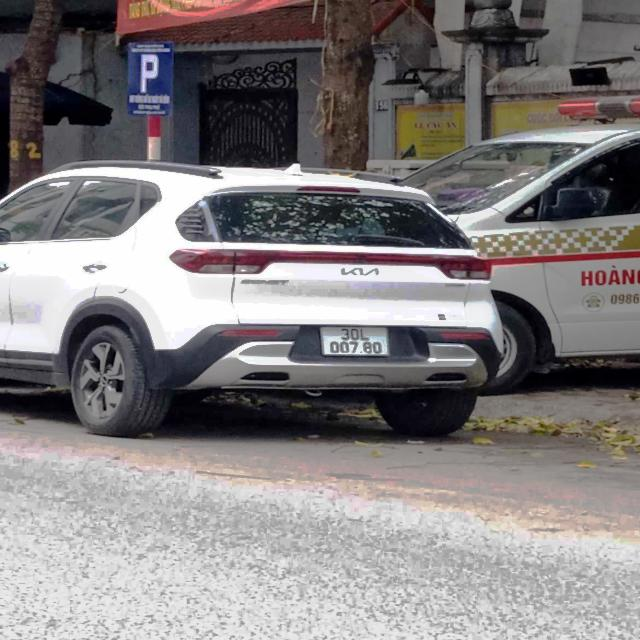license_plate: (315, 323, 396, 361)
